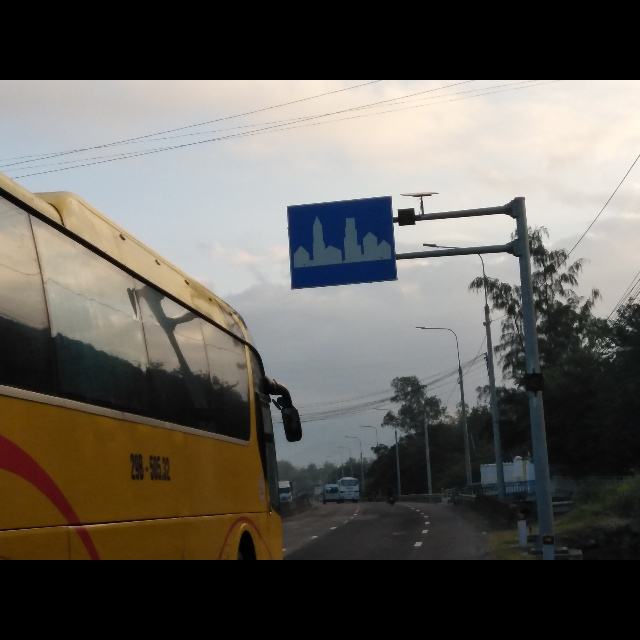Khu đông dân cư: (281, 194, 398, 294)
